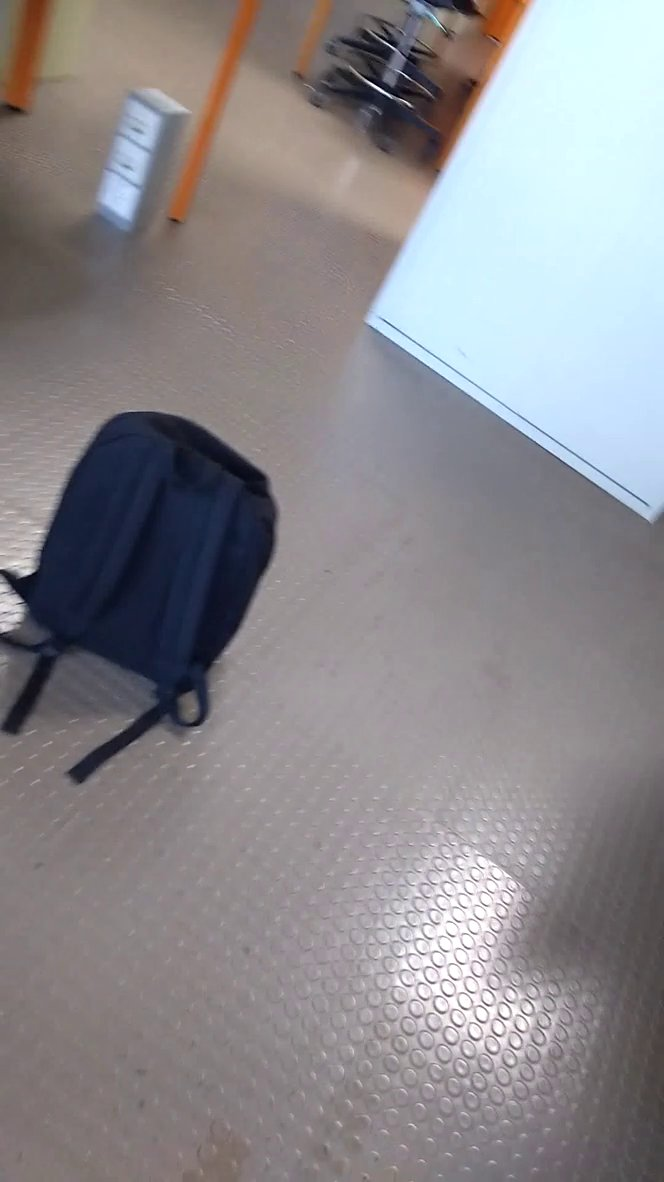bag: (1, 396, 292, 792)
